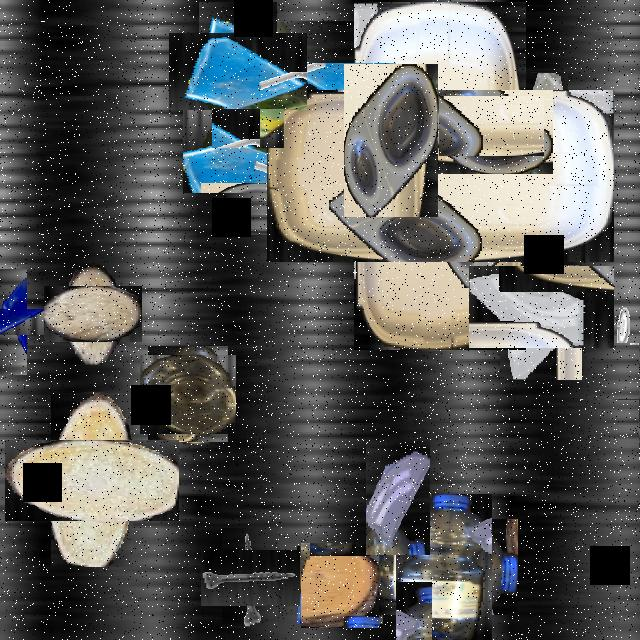glass: (484, 250, 598, 364), (184, 17, 292, 125), (366, 441, 430, 555), (501, 84, 579, 161), (0, 288, 46, 355)
metal: (450, 84, 532, 168), (211, 539, 289, 617), (220, 100, 276, 156), (229, 366, 267, 434), (617, 265, 640, 343)
plastic: (310, 46, 570, 306), (203, 42, 375, 214), (383, 506, 505, 628), (344, 64, 438, 217), (144, 351, 232, 438), (609, 369, 640, 430)
wood: (28, 416, 156, 544), (299, 544, 381, 626), (54, 276, 132, 353)
